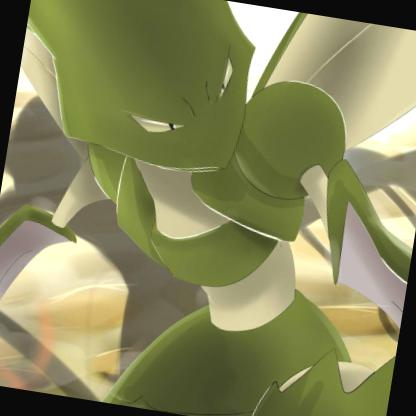Sichlor: (0, 0, 415, 414)
